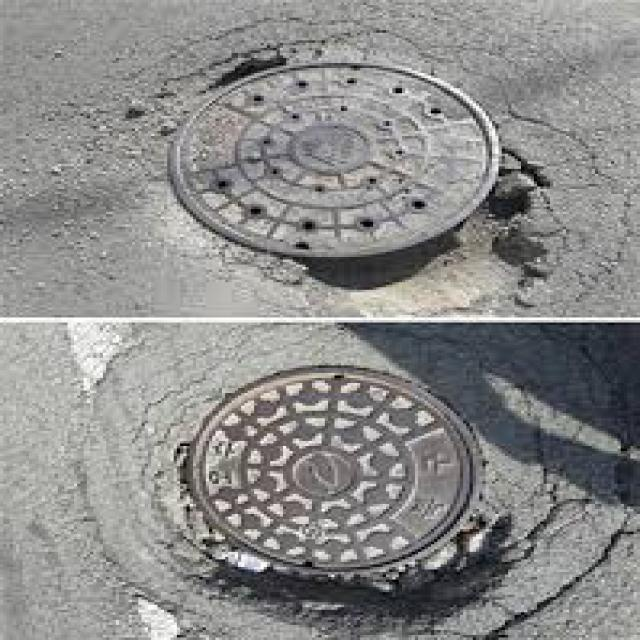manhole: (169, 62, 500, 259), (189, 368, 474, 574)
